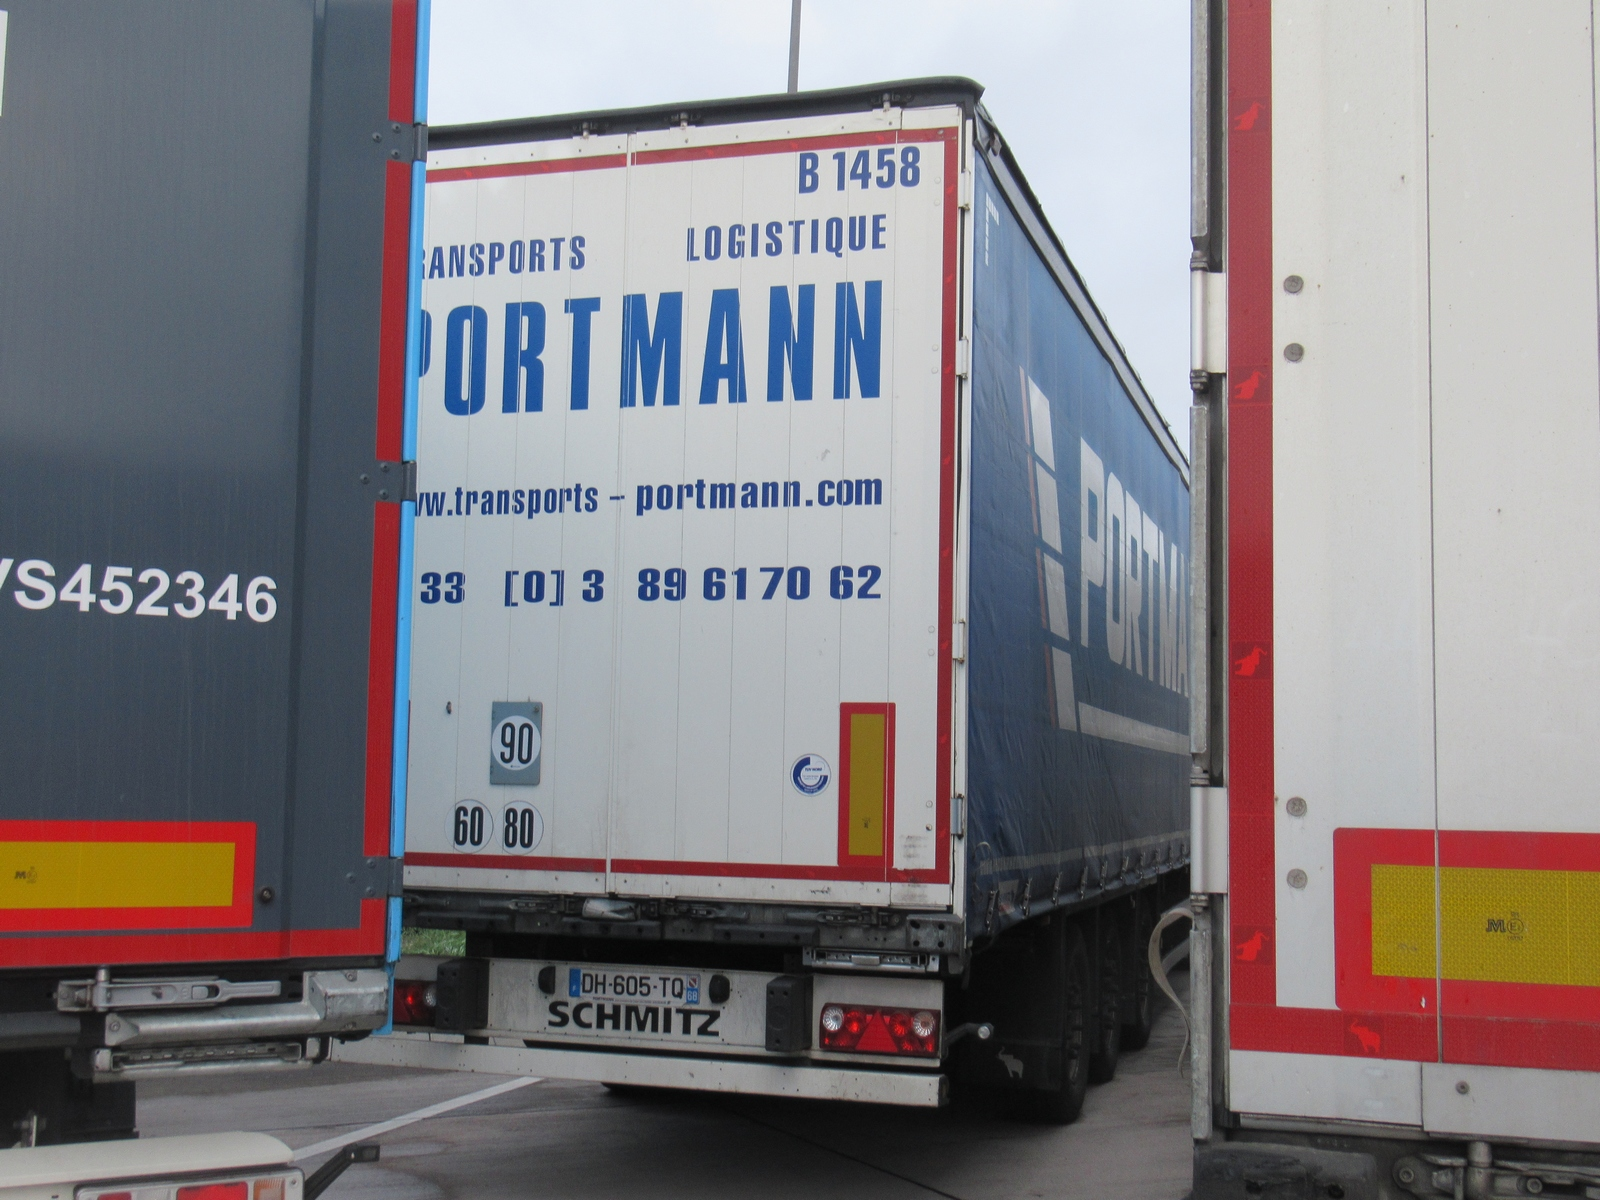licence plate: (566, 964, 702, 1009)
